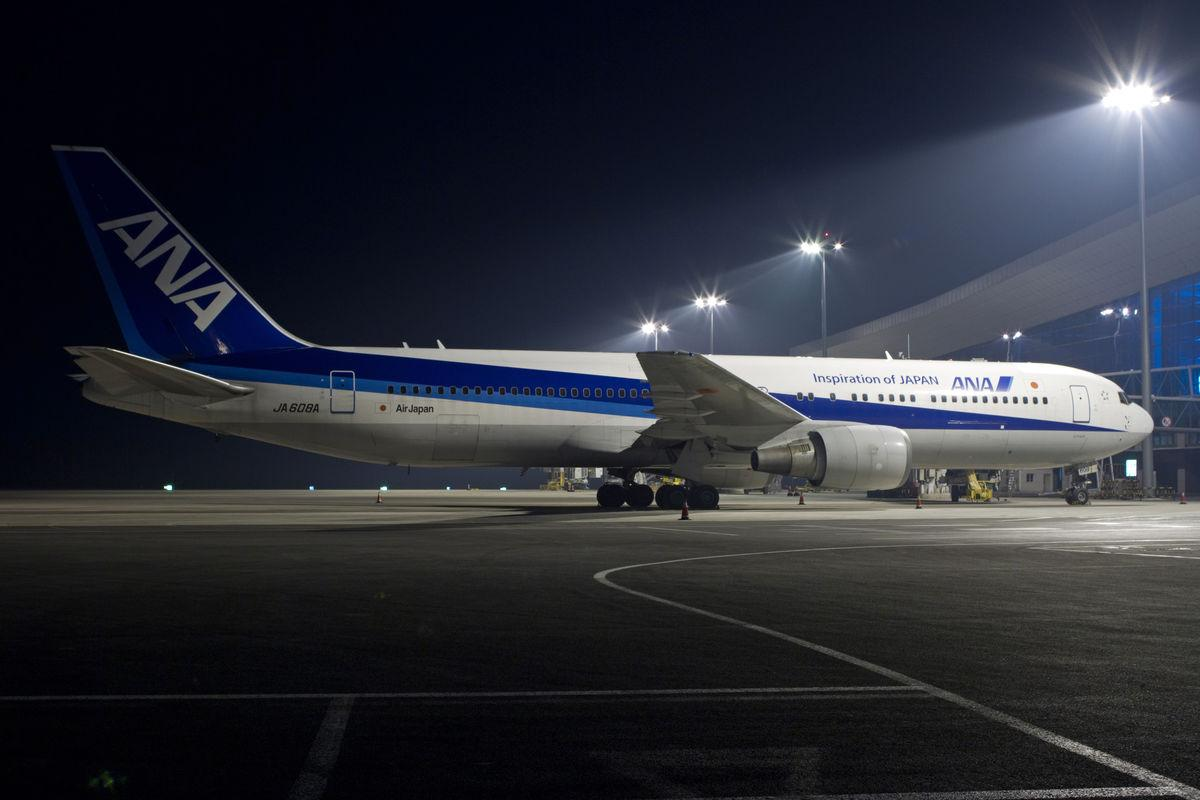airplane: (35, 143, 1154, 505)
